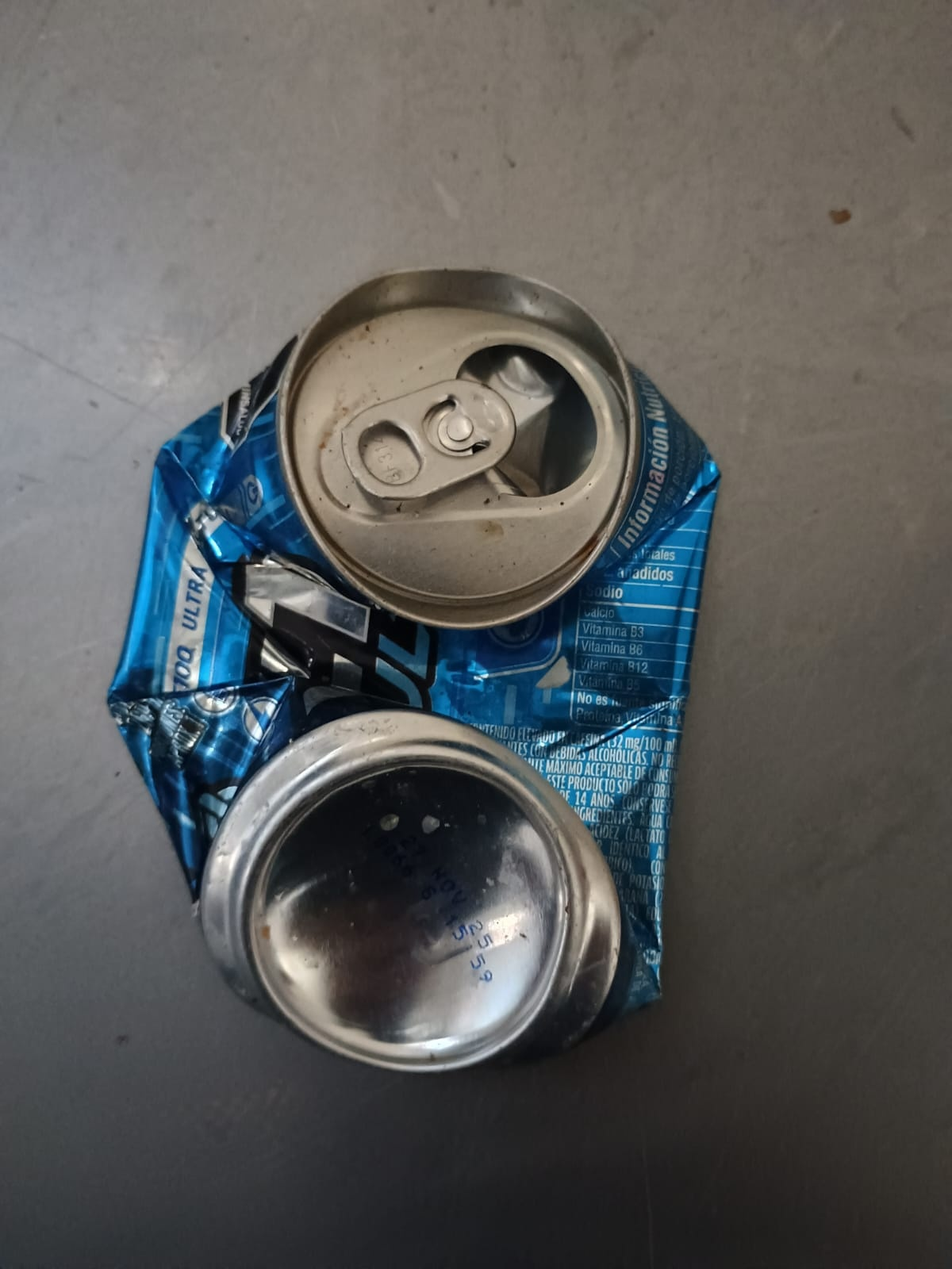Metal: (108, 271, 722, 1073)
